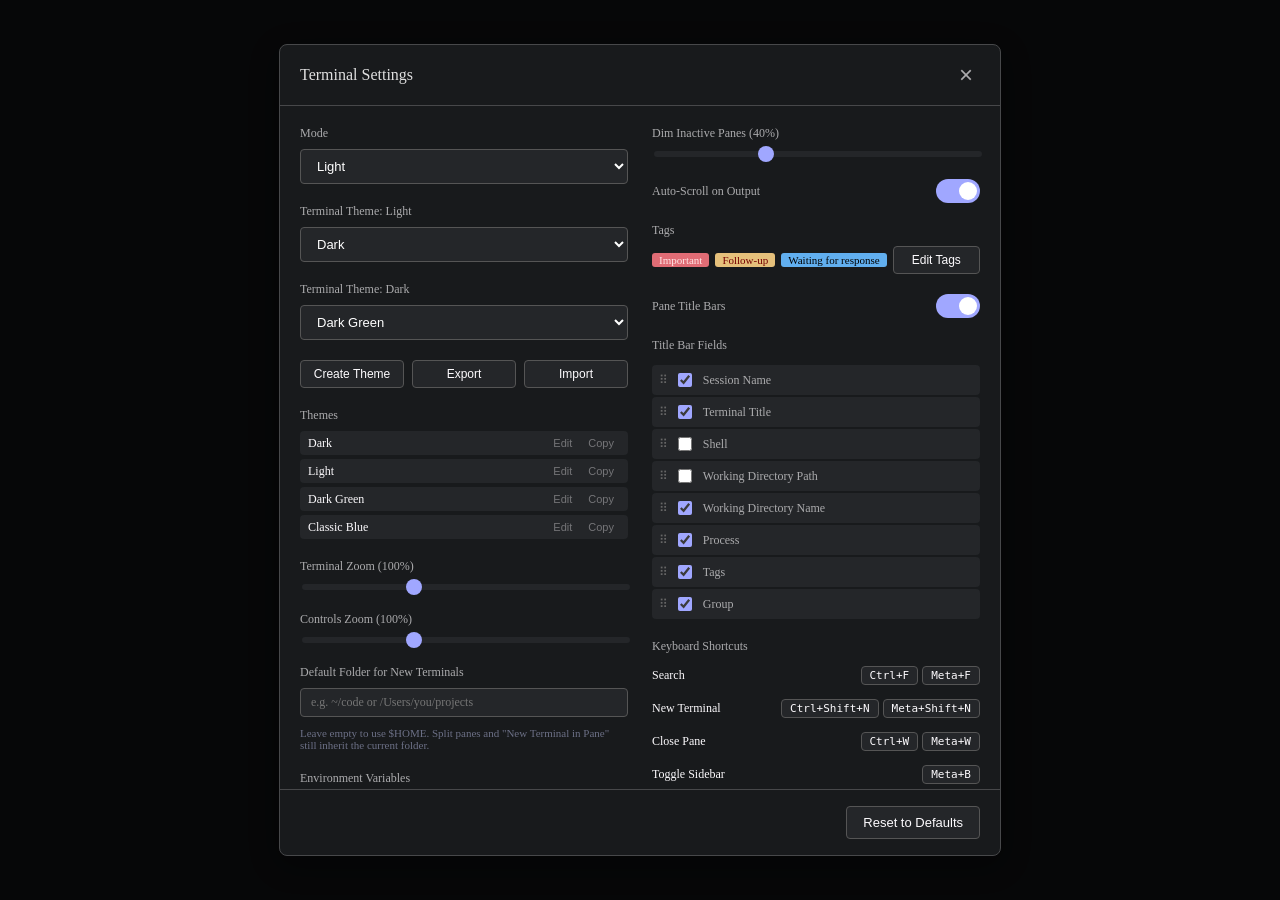
Test: SettingsPanel - Settings Controls › Escape cancels keybinding recording
Click the button with class "keybinding-badge" showing "Ctrl+F" at (889, 676), box [860,666,918,685]
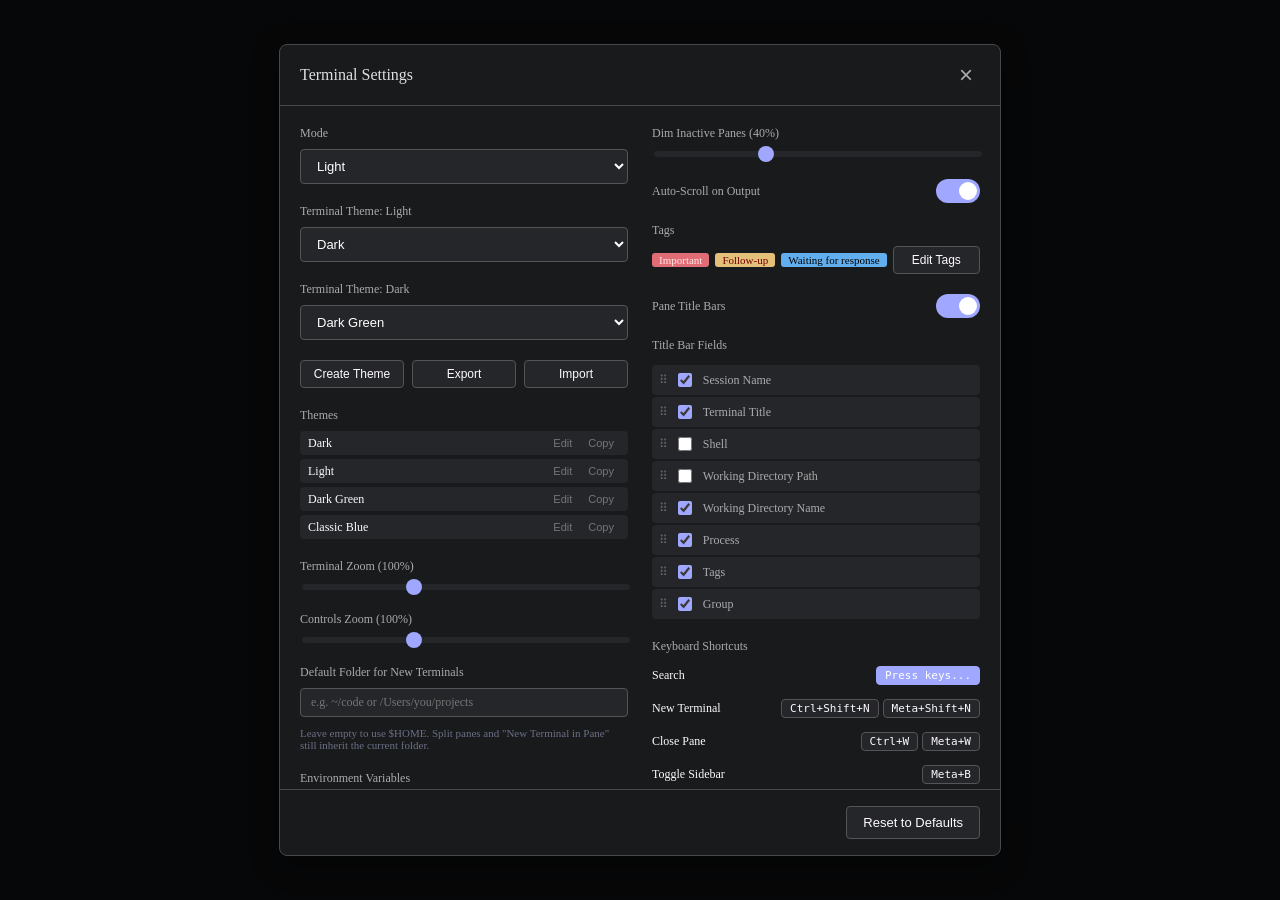
Expected: the text "Press keys..." is shown, [876,666,980,685]
Press Escape to cancel
Press Escape
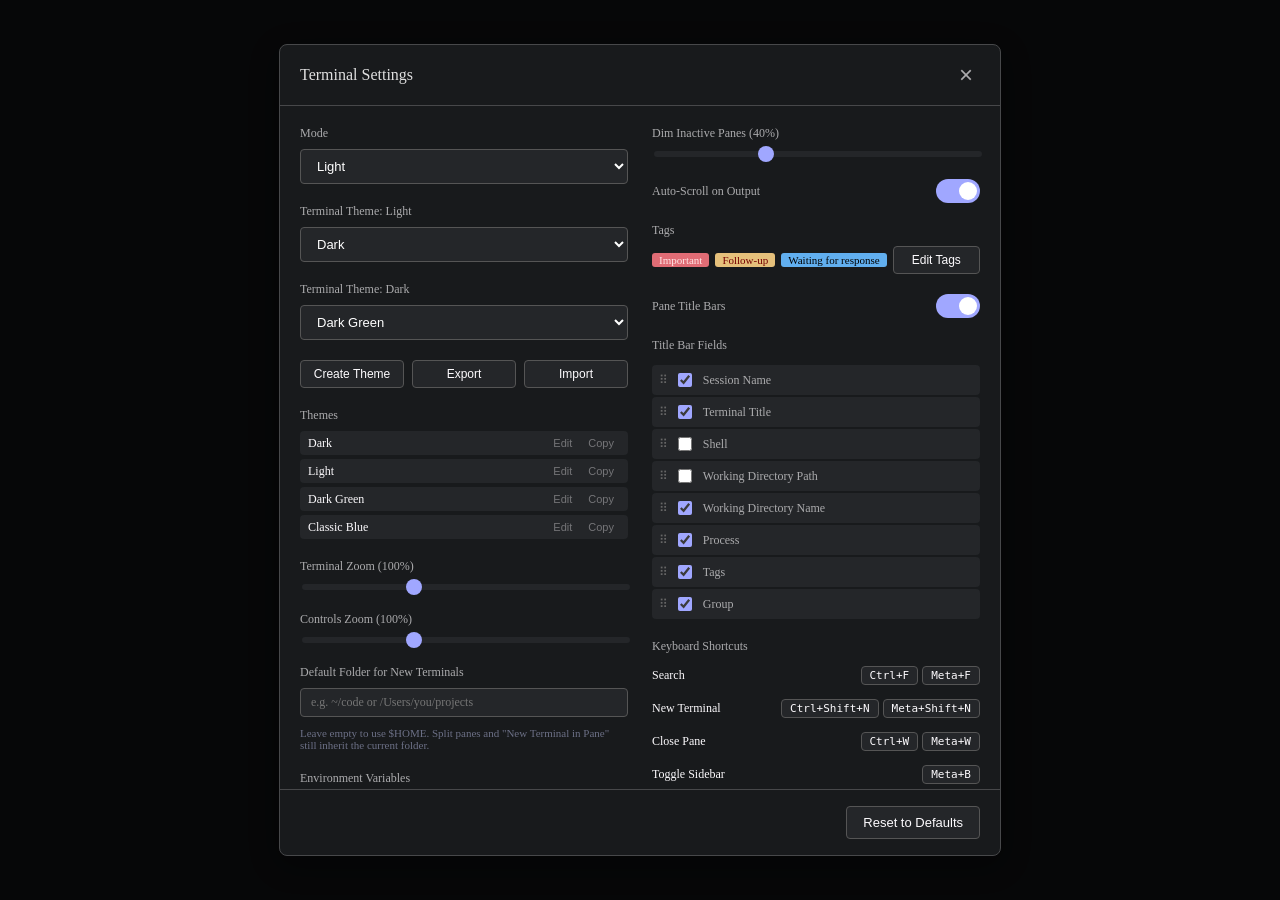
Expected: the text with class "recording" is gone
